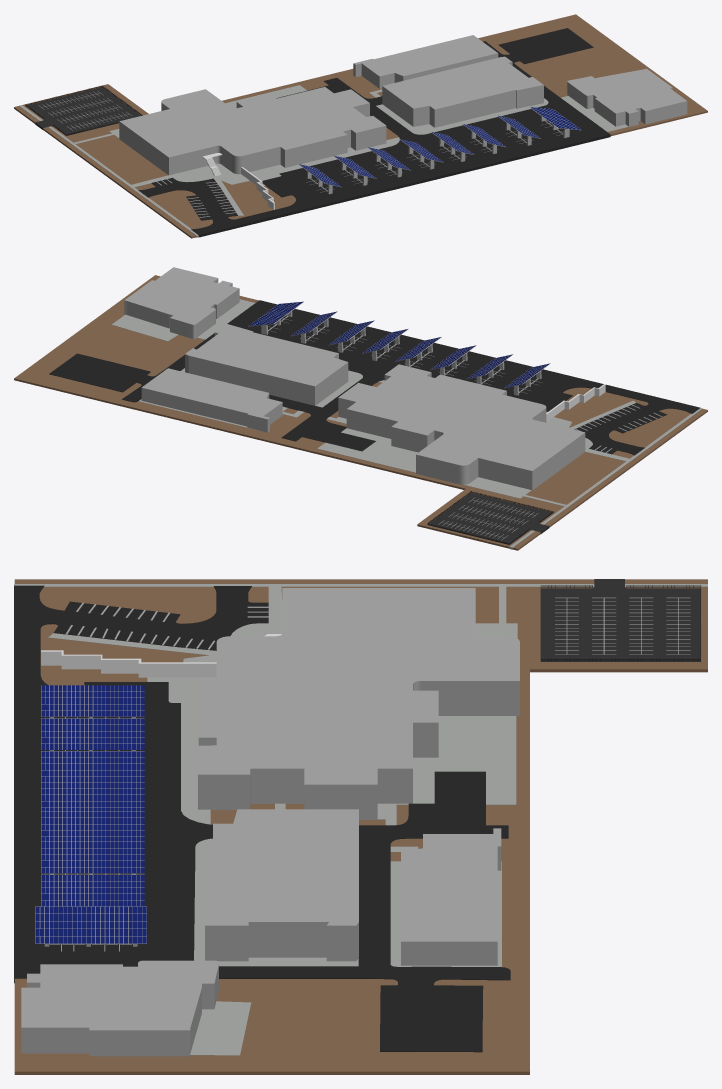
Rendered from thebuilding(2).glb.
3 renders of one model, top to bottom at view 1: azimuth 30°, elevation 25°; view 2: azimuth 150°, elevation 25°; view 3: azimuth 270°, elevation 25°, orthographic. The views are drawn at different scales.
Visible parts, largest first — view 1: parking, B1, gravel, sidewalk, B2, B4, B3, solarpanel, solarparking, eastlines, wall; view 2: gravel, B1, parking, sidewalk, B2, B4, B3, solarpanel, solarparking, wall, eastlines; view 3: B1, parking, gravel, sidewalk, solarpanel, B2, B4, B3, wall, eastlines.
Part boxes in pixels (left/top/right/bottom): parking: left=138, top=28, right=610, bottom=237; B1: left=119, top=87, right=386, bottom=175; gravel: left=14, top=14, right=707, bottom=238; sidewalk: left=19, top=85, right=628, bottom=237; B2: left=382, top=56, right=543, bottom=127; B4: left=567, top=68, right=687, bottom=126; B3: left=353, top=35, right=498, bottom=88; solarpanel: left=298, top=107, right=581, bottom=194; solarparking: left=306, top=120, right=570, bottom=192; eastlines: left=38, top=91, right=131, bottom=130; wall: left=241, top=167, right=274, bottom=209; gravel: left=14, top=275, right=707, bottom=550; B1: left=338, top=364, right=585, bottom=490; parking: left=49, top=300, right=700, bottom=455; sidewalk: left=111, top=299, right=702, bottom=549; B2: left=185, top=323, right=348, bottom=405; B4: left=124, top=267, right=239, bottom=338; B3: left=141, top=368, right=282, bottom=432; solarpanel: left=248, top=301, right=550, bottom=395; solarparking: left=268, top=316, right=542, bottom=393; wall: left=546, top=384, right=605, bottom=421; eastlines: left=438, top=497, right=538, bottom=540; B1: left=198, top=588, right=519, bottom=819; parking: left=14, top=585, right=510, bottom=1052; gravel: left=14, top=579, right=707, bottom=1074; sidewalk: left=14, top=579, right=707, bottom=1055; solarpanel: left=35, top=685, right=146, bottom=946; B2: left=205, top=809, right=358, bottom=961; B4: left=21, top=960, right=218, bottom=1056; B3: left=401, top=828, right=501, bottom=965; wall: left=41, top=650, right=216, bottom=677; eastlines: left=555, top=597, right=690, bottom=654.
Bounding box in the file's own units: 17.91 × 0.6849 × 10.67.
